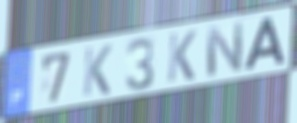3: (124, 35, 156, 93)
7: (40, 49, 72, 106)
A: (242, 14, 288, 73)
K: (80, 42, 114, 99), (165, 28, 198, 85)
N: (204, 19, 245, 80)
